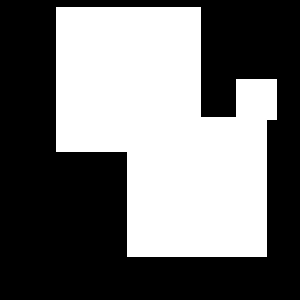circle: (56, 7, 201, 152), (127, 117, 267, 257), (236, 79, 277, 120)
triangle: (116, 52, 161, 97), (164, 23, 200, 59)
